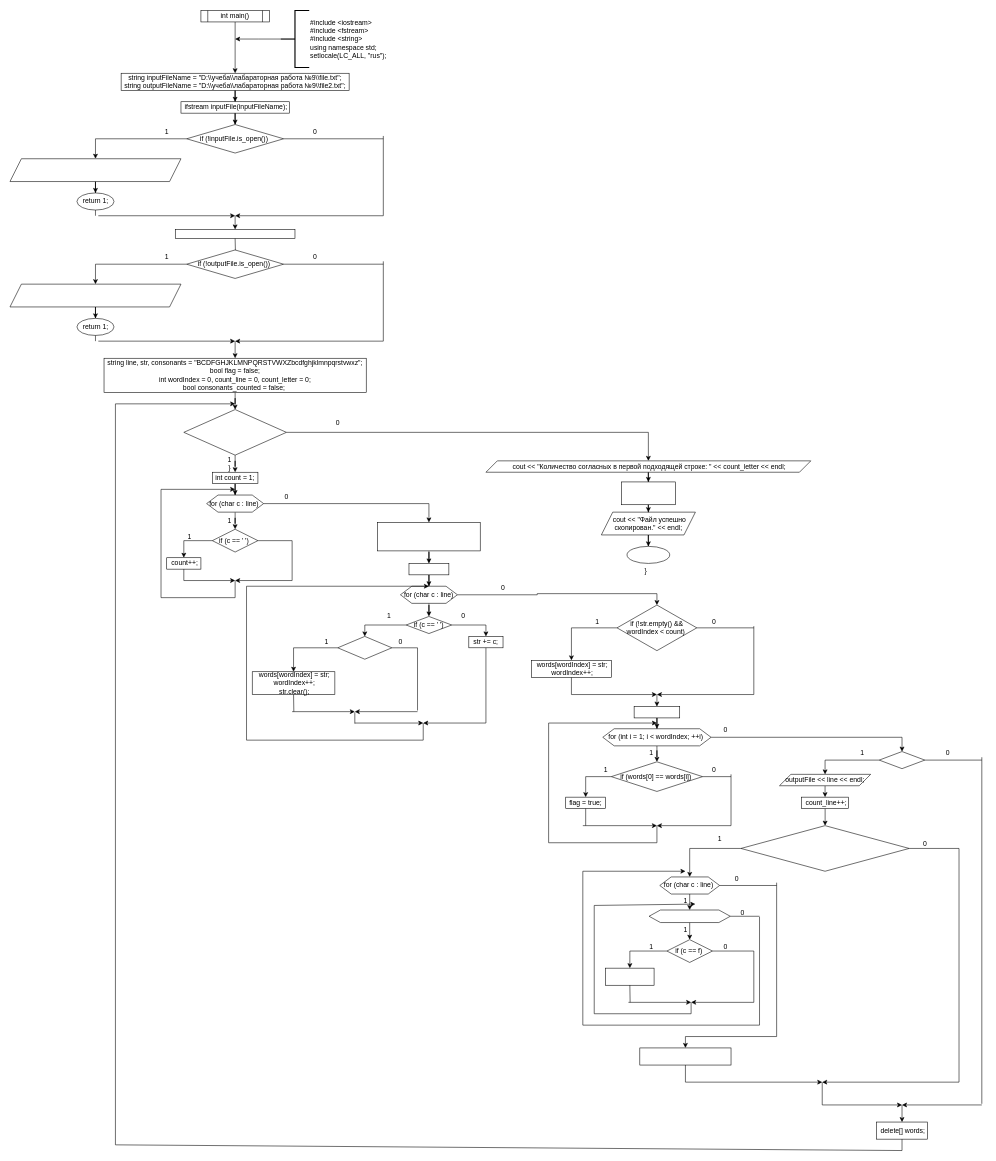
This 996x1161 diagram has some shape labels left out. The shapes that lost their labels are listed below. From the top down, each one's box as (x1, y1, x2, y2) in pixels, then its label:
(9, 158, 181, 182): cout << "Ошибка: Не удалось открыть файл " << inputFileName << endl;
(175, 229, 295, 239): ofstream outputFile(outputFileName);
(9, 284, 181, 307): cout << "Ошибка: Не удалось открыть файл " << outputFileName << endl;
(183, 409, 286, 455): while (getline(inputFile, line))
(621, 481, 675, 505): inputFile.close(); outputFile.close();
(377, 522, 480, 551): string* words = new string[count]; wordIndex = 0;
(626, 546, 670, 563): return 0;
(408, 563, 449, 575): str.clear();
(337, 636, 392, 659): if (!str.empty())
(634, 706, 680, 718): flag = false;
(879, 751, 925, 769): if (!flag)
(740, 825, 909, 871): if (count_line == 1 && !consonants_counted)
(648, 909, 730, 923): for (char f : consonants)
(605, 968, 654, 985): count_letter++;
(639, 1047, 731, 1065): consonants_counted = true;
